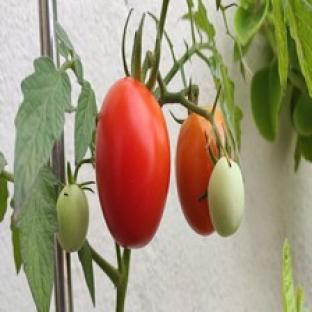Tomato: (97, 77, 169, 247), (176, 113, 217, 235), (208, 156, 243, 236), (56, 184, 89, 252)
